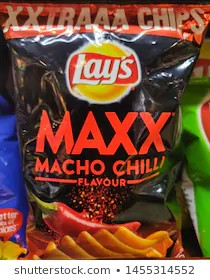lays-med: (2, 20, 197, 261)
